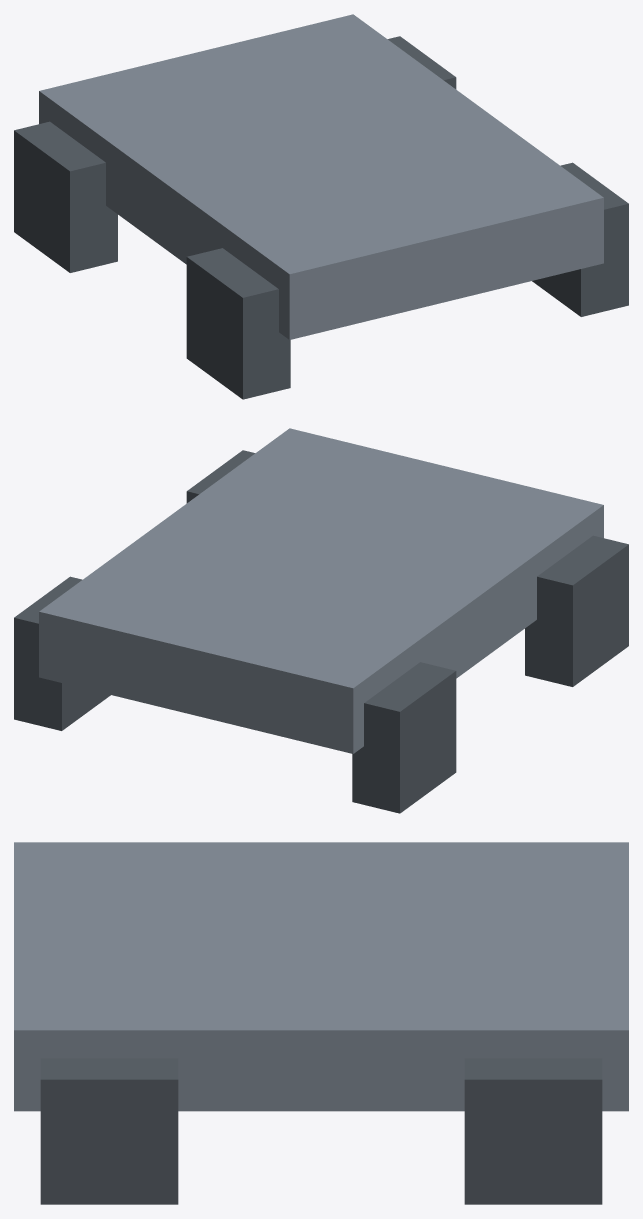
The model's file is studio-bogie.glb.
3 views of the same model, one above another, from view 1: azimuth 30°, elevation 25°; view 2: azimuth 150°, elevation 25°; view 3: azimuth 270°, elevation 25° (orthographic). The views are drawn at different scales.
Parts seen in each view (by area): view 1: Bogie_Frame, Wheel_Front_Right, Wheel_Rear_Right, Wheel_Front_Left, Wheel_Rear_Left; view 2: Bogie_Frame, Wheel_Rear_Right, Wheel_Front_Right, Wheel_Rear_Left, Wheel_Front_Left; view 3: Bogie_Frame, Wheel_Front_Left, Wheel_Rear_Left.
Part boxes in pixels (x1=…): Bogie_Frame: x1=39, y1=14, x2=603, y2=339; Wheel_Front_Right: x1=186, y1=248, x2=290, y2=399; Wheel_Rear_Right: x1=14, y1=121, x2=117, y2=272; Wheel_Front_Left: x1=532, y1=162, x2=628, y2=316; Wheel_Rear_Left: x1=387, y1=36, x2=456, y2=89; Bogie_Frame: x1=39, y1=428, x2=603, y2=753; Wheel_Rear_Right: x1=352, y1=662, x2=456, y2=813; Wheel_Front_Right: x1=525, y1=535, x2=628, y2=686; Wheel_Rear_Left: x1=14, y1=576, x2=110, y2=730; Wheel_Front_Left: x1=186, y1=450, x2=255, y2=503; Bogie_Frame: x1=14, y1=842, x2=628, y2=1111; Wheel_Front_Left: x1=40, y1=1058, x2=178, y2=1204; Wheel_Rear_Left: x1=464, y1=1058, x2=602, y2=1204.
Size of the model in its own units: 2.58 by 0.795 by 2.9.
